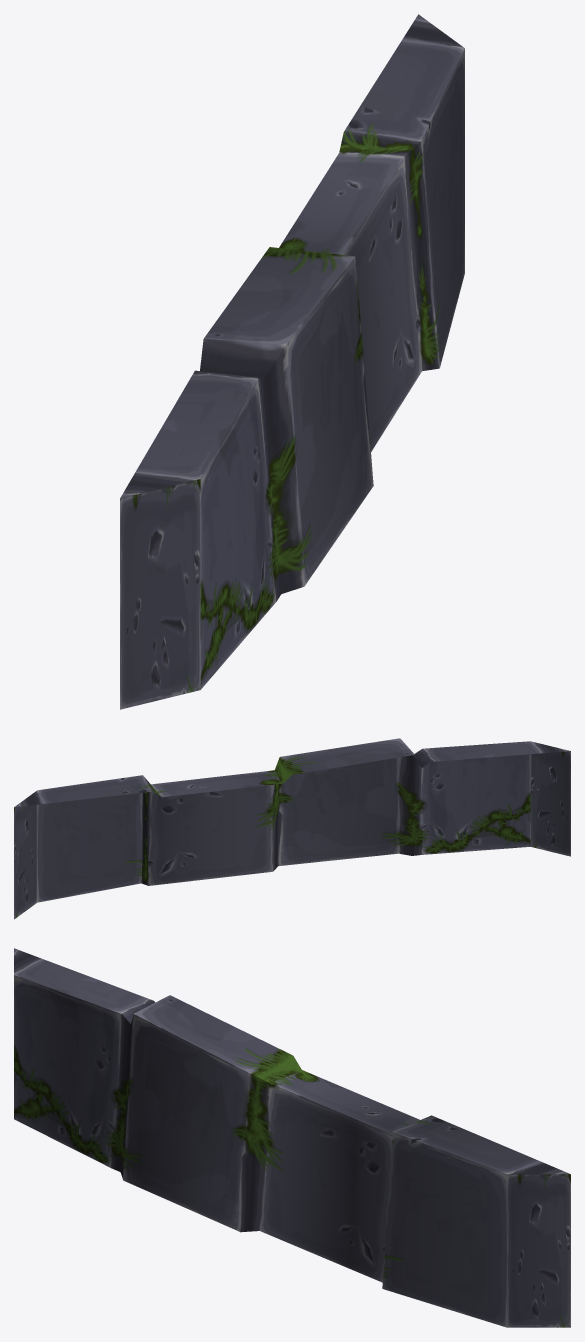
File: MOD_WallTrim_01_M_angle_1_2.fbx
The picture shows the model from 3 angles, top to bottom: view 1: azimuth 30°, elevation 25°; view 2: azimuth 150°, elevation 25°; view 3: azimuth 270°, elevation 25°; orthographic projection. The views are drawn at different scales.
Visible parts, largest first — view 1: MOD_WallTrim_01_M_angle_1_2; view 2: MOD_WallTrim_01_M_angle_1_2; view 3: MOD_WallTrim_01_M_angle_1_2.
Boxes of the visible parts, x1=… form: MOD_WallTrim_01_M_angle_1_2: x1=120, y1=14, x2=464, y2=709; MOD_WallTrim_01_M_angle_1_2: x1=14, y1=738, x2=570, y2=919; MOD_WallTrim_01_M_angle_1_2: x1=14, y1=948, x2=570, y2=1327.
Bounding box in the file's own units: 175 × 56.6 × 175.
